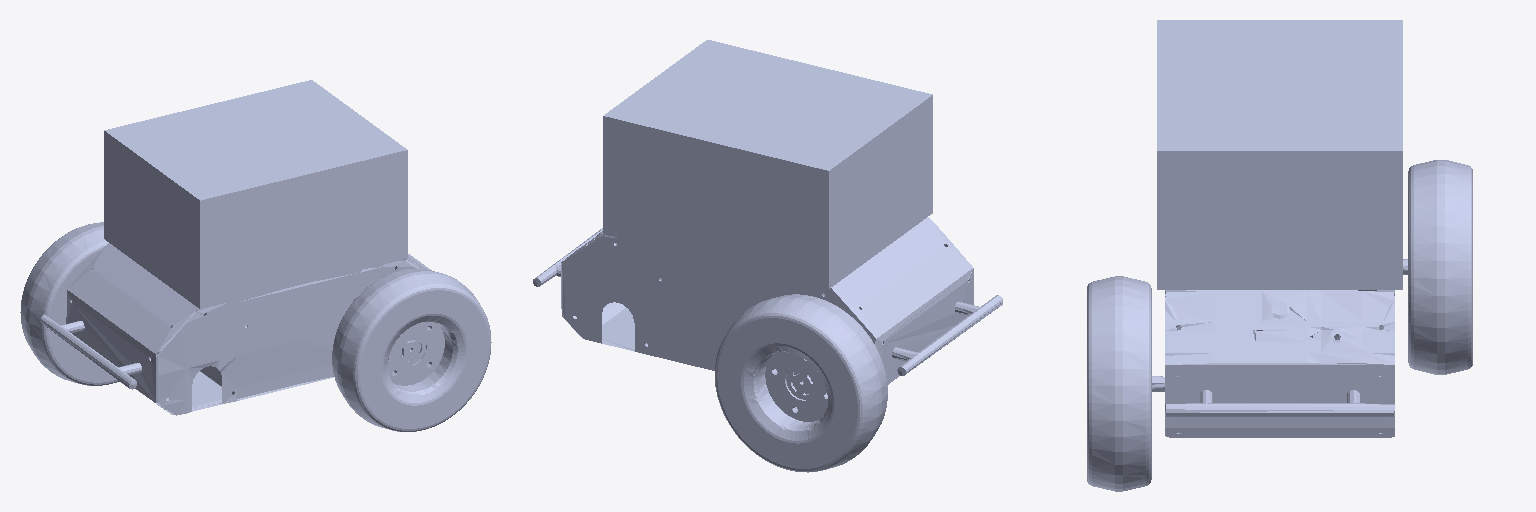
robot.urdf — mobile.SLDASM:
<?xml version="1.0" encoding="utf-8"?>
<!-- This URDF was automatically created by SolidWorks to URDF Exporter! Originally created by Stephen Brawner (brawner@gmail.com) 
     Commit Version: 1.6.0-4-g7f85cfe  Build Version: 1.6.7995.38578
     For more information, please see http://wiki.ros.org/sw_urdf_exporter -->
<robot
  name="mobile.SLDASM">
  <link
    name="base">
    <inertial>
      <origin
        xyz="-0.000678009319750454 -0.000933578246398035 0.365997848809861"
        rpy="0 0 0" />
      <mass
        value="50.0005804550328" />
      <inertia
        ixx="0.927083479613"
        ixy="-7.82570746146962E-10"
        ixz="6.07365200756405E-08"
        iyy="1.30208348831245"
        iyz="-6.82878445432891E-09"
        izz="1.70833347356503" />
    </inertial>
    <visual>
      <origin
        xyz="0 0 0"
        rpy="0 0 0" />
      <geometry>
        <mesh
        
          filename="package://aubo_description/meshes/AGV/base.STL" />
      </geometry>
      <material
        name="">
        <color
          rgba="0.792156862745098 0.819607843137255 0.933333333333333 1" />
      </material>
    </visual>
    <collision>
      <origin
        xyz="0 0 0"
        rpy="0 0 0" />
      <geometry>
        <mesh
          filename="package://aubo_description/meshes/AGV/base.STL" />
      </geometry>
    </collision>
  </link>
  <link
    name="link1">
    <inertial>
      <origin
        xyz="1.78341398479887E-05 -1.19306774397088E-05 -0.0106376169832055"
        rpy="0 0 0" />
      <mass
        value="7.52426174439998" />
      <inertia
        ixx="0.0713176882486698"
        ixy="2.66385960144516E-06"
        ixz="1.31696507036528E-06"
        iyy="0.0713168017780368"
        iyz="1.37317216329238E-06"
        izz="0.130202175107688" />
    </inertial>
    <visual>
      <origin
        xyz="0 0 0"
        rpy="0 0 0" />
      <geometry>
        <mesh
          filename="package://aubo_description/meshes/AGV/link1.STL" />
      </geometry>
      <material
        name="">
        <color
          rgba="0.792156862745098 0.819607843137255 0.933333333333333 1" />
      </material>
    </visual>
    <collision>
      <origin
        xyz="0 0 0"
        rpy="0 0 0" />
      <geometry>
        <mesh
          filename="package://aubo_description/meshes/AGV/link1.STL" />
      </geometry>
    </collision>
  </link>
  <joint
    name="joint1"
    type="revolute">
    <origin
      xyz="0.223444719292505 0.24927407921646 0.060700390237856"
      rpy="1.5707963267949 0 0" />
    <parent
      link="base" />
    <child
      link="link1" />
    <axis
      xyz="0 0 0.999999999999999" />
    <limit
      lower="0"
      upper="0"
      effort="0"
      velocity="0" />
  </joint>
  <link
    name="link2">
    <inertial>
      <origin
        xyz="1.78341398480164E-05 -1.19306774397157E-05 -0.0106376169832055"
        rpy="0 0 0" />
      <mass
        value="7.52426174439999" />
      <inertia
        ixx="0.0713176882486698"
        ixy="2.66385960144803E-06"
        ixz="1.31696507036276E-06"
        iyy="0.0713168017780368"
        iyz="1.37317216329607E-06"
        izz="0.130202175107688" />
    </inertial>
    <visual>
      <origin
        xyz="0 0 0"
        rpy="0 0 0" />
      <geometry>
        <mesh
          filename="package://aubo_description/meshes/AGV/link2.STL" />
      </geometry>
      <material
        name="">
        <color
          rgba="0.792156862745098 0.819607843137255 0.933333333333333 1" />
      </material>
    </visual>
    <collision>
      <origin
        xyz="0 0 0"
        rpy="0 0 0" />
      <geometry>
        <mesh
          filename="package://aubo_description/meshes/AGV/link2.STL" />
      </geometry>
    </collision>
  </link>
  <joint
    name="joint2"
    type="revolute">
    <origin
      xyz="-0.224804310210463 0.24927407921646 0.060700390237856"
      rpy="1.5707963267949 0 0" />
    <parent
      link="base" />
    <child
      link="link2" />
    <axis
      xyz="0 0 0.999999999999999" />
    <limit
      lower="0"
      upper="0"
      effort="0"
      velocity="0" />
  </joint>
  <link
    name="link3">
    <inertial>
      <origin
        xyz="-2.14556049782932E-05 -2.33716289411989E-07 0.0106376169832056"
        rpy="0 0 0" />
      <mass
        value="7.52426174439995" />
      <inertia
        ixx="0.0713149835815557"
        ixy="-1.47598500995125E-06"
        ixz="3.51474002385736E-07"
        iyy="0.0713195064451499"
        iyz="-1.86988363602951E-06"
        izz="0.130202175107687" />
    </inertial>
    <visual>
      <origin
        xyz="0 0 0"
        rpy="0 0 0" />
      <geometry>
        <mesh
          filename="package://aubo_description/meshes/AGV/link3.STL" />
      </geometry>
      <material
        name="">
        <color
          rgba="0.792156862745098 0.819607843137255 0.933333333333333 1" />
      </material>
    </visual>
    <collision>
      <origin
        xyz="0 0 0"
        rpy="0 0 0" />
      <geometry>
        <mesh
          filename="package://aubo_description/meshes/AGV/link3.STL" />
      </geometry>
    </collision>
  </link>
  <joint
    name="joint3"
    type="revolute">
    <origin
      xyz="0.223444724682146 -0.251141797718238 0.0607003886333045"
      rpy="1.5707963267949 0 0" />
    <parent
      link="base" />
    <child
      link="link3" />
    <axis
      xyz="0 0 -0.999999999999999" />
    <limit
      lower="0"
      upper="0"
      effort="0"
      velocity="0" />
  </joint>
  <link
    name="link4">
    <inertial>
      <origin
        xyz="-2.1455604978321E-05 -2.33716289398112E-07 0.0106376169832055"
        rpy="0 0 0" />
      <mass
        value="7.52426174439995" />
      <inertia
        ixx="0.0713149835815557"
        ixy="-1.47598500993561E-06"
        ixz="3.51474002386319E-07"
        iyy="0.0713195064451499"
        iyz="-1.86988363602778E-06"
        izz="0.130202175107687" />
    </inertial>
    <visual>
      <origin
        xyz="0 0 0"
        rpy="0 0 0" />
      <geometry>
        <mesh
          filename="package://aubo_description/meshes/AGV/link4.STL" />
      </geometry>
      <material
        name="">
        <color
          rgba="0.792156862745098 0.819607843137255 0.933333333333333 1" />
      </material>
    </visual>
    <collision>
      <origin
        xyz="0 0 0"
        rpy="0 0 0" />
      <geometry>
        <mesh
          filename="package://aubo_description/meshes/AGV/link4.STL" />
      </geometry>
    </collision>
  </link>
  <joint
    name="joint4"
    type="revolute">
    <origin
      xyz="-0.224804304820822 -0.251141797718238 0.0607003886333045"
      rpy="1.5707963267949 0 0" />
    <parent
      link="base" />
    <child
      link="link4" />
    <axis
      xyz="0 0 -0.999999999999999" />
    <limit
      lower="0"
      upper="0"
      effort="0"
      velocity="0" />
  </joint>
</robot>

--- Facts derived from the render (not from the file) ---
3 views of the same robot in one strip: view 1: azimuth 30°, elevation 25°; view 2: azimuth 150°, elevation 25°; view 3: azimuth 270°, elevation 25° (orthographic).
Robot: mobile.SLDASM — 5 links, 4 joints (4 revolute); root link base; default pose: every joint at zero.
Links seen in each view (by area): view 1: base, link3, link2; view 2: base, link2; view 3: base, link3, link2.
Link boxes in pixels (box(x1,y1,x2,y2)): base: box(40, 80, 430, 415); link3: box(332, 269, 491, 431); link2: box(20, 222, 119, 385); base: box(533, 40, 1002, 384); link2: box(715, 294, 887, 472); base: box(1157, 20, 1402, 437); link3: box(1087, 276, 1164, 491); link2: box(1403, 160, 1472, 374).
Size in the robot's own frame: 0.8278 by 0.6273 by 0.6053 metres.
Meshes: 5 distinct files referenced, 3 mesh visuals loaded (3 binary STL); not drawn: 2 (reference not matched to a file when rendering).
